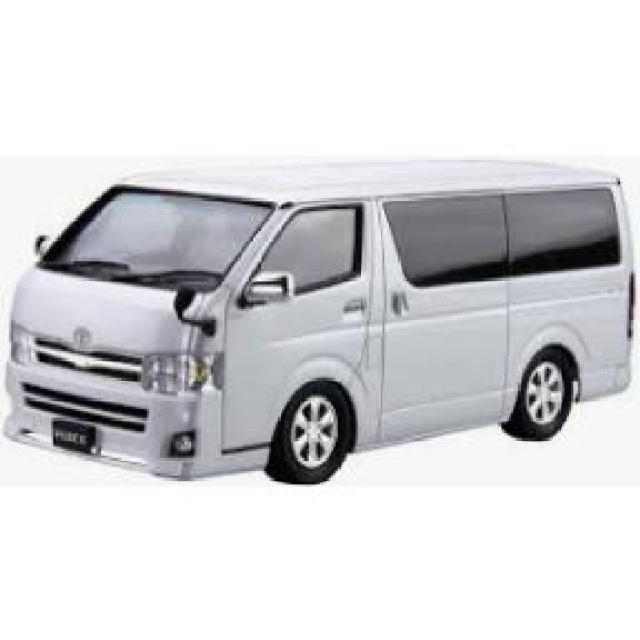Van: (7, 143, 640, 491)
